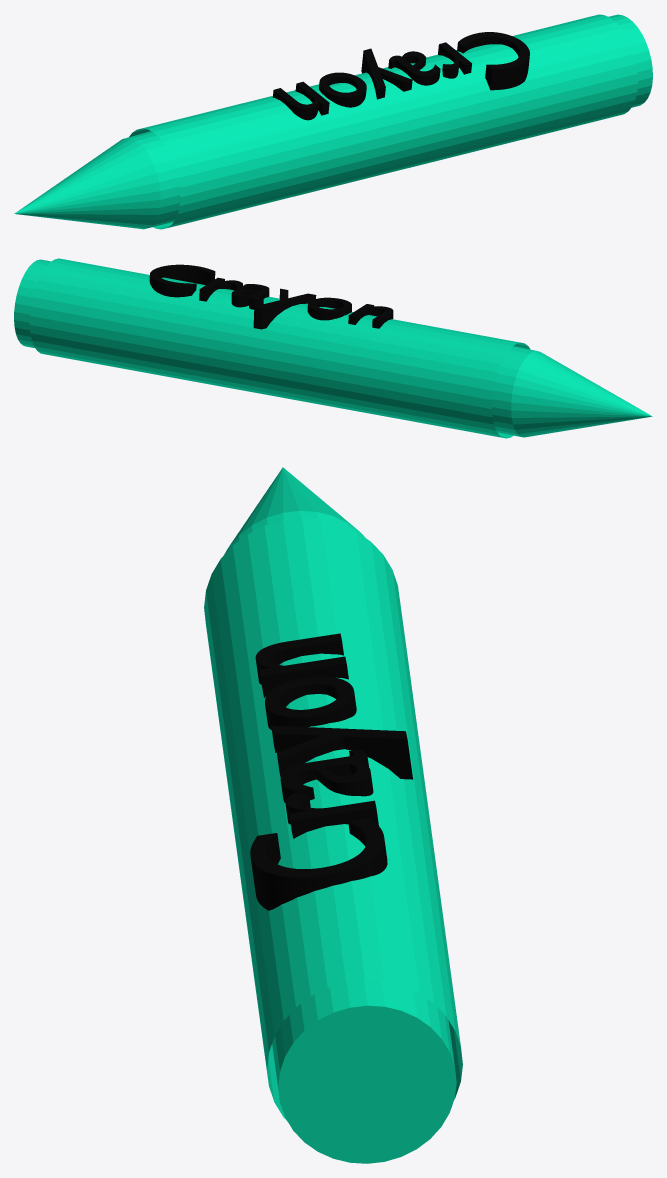
The model's file is Crayon_turquoise.fbx.
3 views of the same model, one above another, from view 1: azimuth 30°, elevation 25°; view 2: azimuth 150°, elevation 25°; view 3: azimuth 270°, elevation 25° (orthographic). The views are drawn at different scales.
Visible parts, largest first — view 1: Text.008; view 2: Text.008; view 3: Text.008.
Part boxes in pixels (bbox=[...]): Text.008: bbox=[14, 14, 652, 229]; Text.008: bbox=[14, 258, 652, 438]; Text.008: bbox=[204, 467, 462, 1163].
Size of the model in its own units: 12.28 by 2.03 by 2.29.
